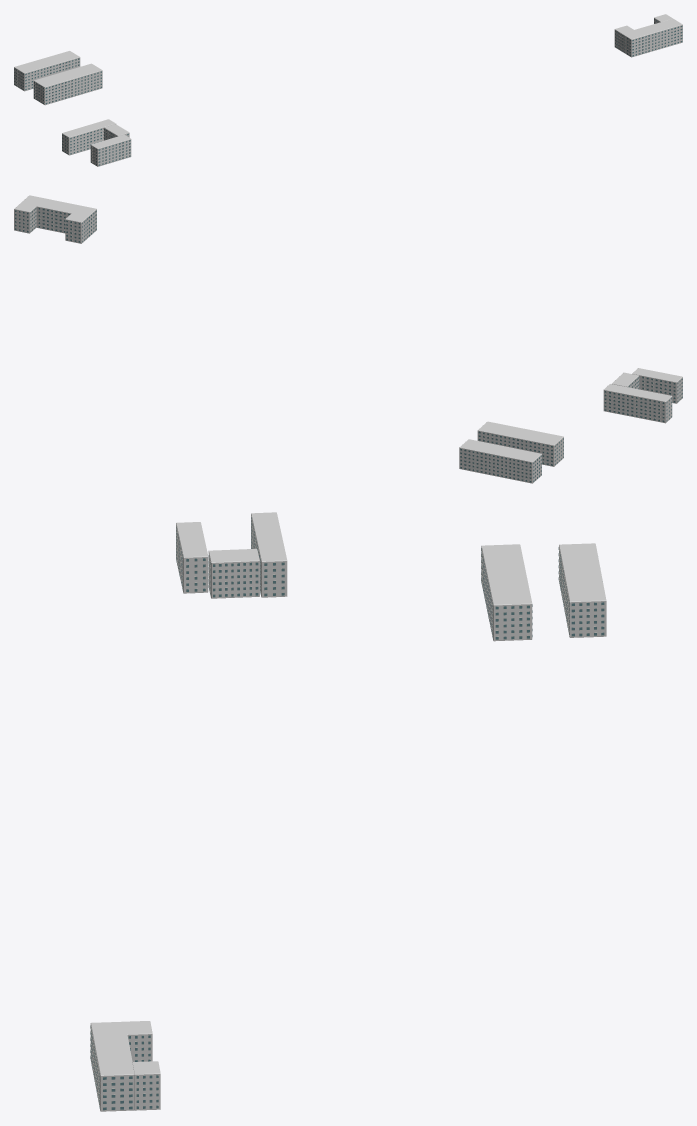
The model's file is seu_academic_secondary_v03.glb.
The picture shows the model from 3 angles, top to bottom: view 1: azimuth 30°, elevation 25°; view 2: azimuth 150°, elevation 25°; view 3: azimuth 270°, elevation 25°; orthographic projection. The views are drawn at different scales.
Visible parts, largest first — view 1: SEU_B_OSMWAY_300010604__0003, SEU_B_OSMWAY_300010619__0008, SEU_B_OSMWAY_300010625__0003, SEU_B_OSMWAY_300010617__0008, SEU_B_OSMWAY_300010617__0009, SEU_B_OSMWAY_300010604__0002, SEU_B_OSMWAY_300010619__0005, SEU_B_OSMWAY_300010625__0002, SEU_B_OSMWAY_300010617__0007, SEU_B_OSMWAY_300010617__0006; view 2: SEU_B_OSMWAY_300010625__0003, SEU_B_OSMWAY_300010604__0003, SEU_B_OSMWAY_300010617__0008, SEU_B_OSMWAY_300010619__0008, SEU_B_OSMWAY_300010617__0009, SEU_B_OSMWAY_300010619__0009, SEU_B_OSMWAY_300010625__0002, SEU_B_OSMWAY_300010619__0007, SEU_B_OSMWAY_300010617__0005; view 3: SEU_B_OSMWAY_300010604__0003, SEU_B_OSMWAY_300010625__0003, SEU_B_OSMWAY_300010619__0008, SEU_B_OSMWAY_300010617__0008, SEU_B_OSMWAY_300010617__0007, SEU_B_OSMWAY_300010617__0009, SEU_B_OSMWAY_300010619__0007, SEU_B_OSMWAY_300010619__0009.
Part boxes in pixels (<box>): SEU_B_OSMWAY_300010604__0003: <box>33,63,102,105</box>; SEU_B_OSMWAY_300010619__0008: <box>621,18,682,57</box>; SEU_B_OSMWAY_300010625__0003: <box>14,51,80,91</box>; SEU_B_OSMWAY_300010617__0008: <box>62,119,115,155</box>; SEU_B_OSMWAY_300010617__0009: <box>90,134,131,166</box>; SEU_B_OSMWAY_300010604__0002: <box>34,71,101,104</box>; SEU_B_OSMWAY_300010619__0005: <box>622,26,682,56</box>; SEU_B_OSMWAY_300010625__0002: <box>14,58,79,90</box>; SEU_B_OSMWAY_300010617__0007: <box>104,124,129,140</box>; SEU_B_OSMWAY_300010617__0006: <box>91,140,130,165</box>; SEU_B_OSMWAY_300010625__0003: <box>459,439,541,483</box>; SEU_B_OSMWAY_300010604__0003: <box>477,421,563,466</box>; SEU_B_OSMWAY_300010617__0008: <box>603,384,672,423</box>; SEU_B_OSMWAY_300010619__0008: <box>21,195,96,237</box>; SEU_B_OSMWAY_300010617__0009: <box>632,368,682,403</box>; SEU_B_OSMWAY_300010619__0009: <box>65,213,88,243</box>; SEU_B_OSMWAY_300010625__0002: <box>460,448,541,482</box>; SEU_B_OSMWAY_300010619__0007: <box>14,203,36,233</box>; SEU_B_OSMWAY_300010617__0005: <box>604,391,671,421</box>; SEU_B_OSMWAY_300010604__0003: <box>481,544,532,641</box>; SEU_B_OSMWAY_300010625__0003: <box>559,543,606,637</box>; SEU_B_OSMWAY_300010619__0008: <box>90,1021,134,1111</box>; SEU_B_OSMWAY_300010617__0008: <box>251,512,287,597</box>; SEU_B_OSMWAY_300010617__0007: <box>208,548,259,598</box>; SEU_B_OSMWAY_300010617__0009: <box>176,522,208,593</box>; SEU_B_OSMWAY_300010619__0007: <box>132,1061,160,1110</box>; SEU_B_OSMWAY_300010619__0009: <box>124,1021,152,1061</box>.
Size of the model in its own units: 782 by 23.55 by 303.
